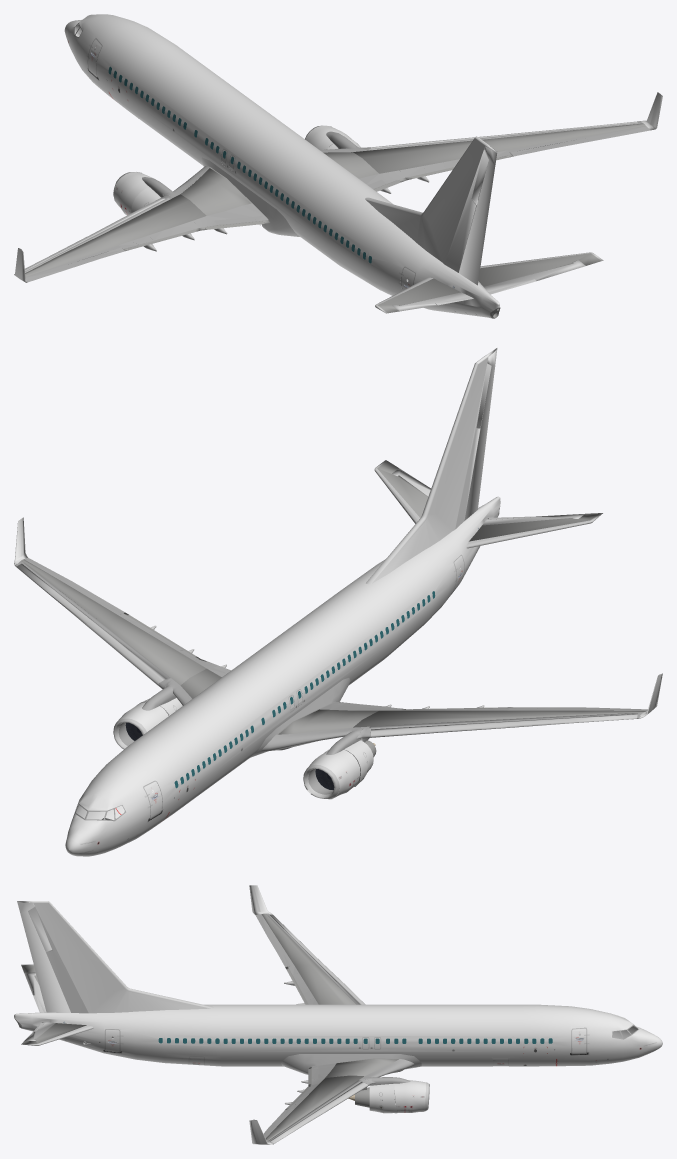
3 renders of one model, top to bottom at view 1: azimuth 30°, elevation 25°; view 2: azimuth 150°, elevation 25°; view 3: azimuth 270°, elevation 25°, orthographic. The views are drawn at different scales.
Visible parts, largest first — view 1: fuselage, vstab, obwing_001, obwing, rudder, winginbd, rhstab, lhstab, lhfairing, windowslh, engnose_001, panel1upper (+8 smaller); view 2: fuselage, vstab, obwing_001, obwing, lhstab, winginbd, rudder, rhstab, vstable, engnose_001, windowslh, ible (+3 smaller); view 3: fuselage, vstab, obwing, rudder, obwing_001, rhwtobfairing, windowsrh, No2engfancase, winginbd_001, No2reverser, rhstab, vstable (+2 smaller).
Part boxes in pixels (x1,y1,x2,y2): fuselage: [64, 14, 500, 318]; vstab: [366, 136, 497, 272]; obwing_001: [353, 123, 645, 173]; obwing: [25, 194, 206, 277]; rudder: [459, 146, 496, 285]; winginbd: [181, 167, 251, 215]; rhstab: [478, 252, 603, 286]; lhstab: [375, 277, 460, 313]; lhfairing: [200, 157, 299, 236]; windowslh: [108, 66, 371, 263]; engnose_001: [113, 172, 152, 215]; panel1upper: [193, 203, 268, 227]; fuselage: [65, 496, 500, 856]; vstab: [372, 348, 497, 583]; obwing_001: [21, 559, 206, 685]; obwing: [353, 710, 645, 727]; lhstab: [466, 513, 602, 548]; winginbd: [276, 709, 378, 734]; rudder: [464, 349, 497, 520]; rhstab: [374, 460, 428, 523]; vstable: [366, 362, 478, 584]; engnose_001: [308, 749, 360, 799]; windowslh: [174, 591, 435, 788]; ible: [261, 727, 365, 751]; fuselage: [14, 1004, 662, 1066]; vstab: [17, 901, 210, 1013]; obwing: [261, 913, 355, 1004]; rudder: [17, 902, 70, 1012]; obwing_001: [265, 1075, 363, 1141]; rhwtobfairing: [281, 1054, 421, 1074]; windowsrh: [158, 1038, 552, 1043]; No2engfancase: [394, 1080, 425, 1112]; winginbd_001: [325, 1058, 398, 1077]; No2reverser: [369, 1083, 396, 1113]; rhstab: [21, 1023, 93, 1045]; vstable: [48, 901, 213, 1008].
Size of the model in its own units: 34.85 by 40.62 by 12.11.
Materials: 50 (18 with a texture image).
